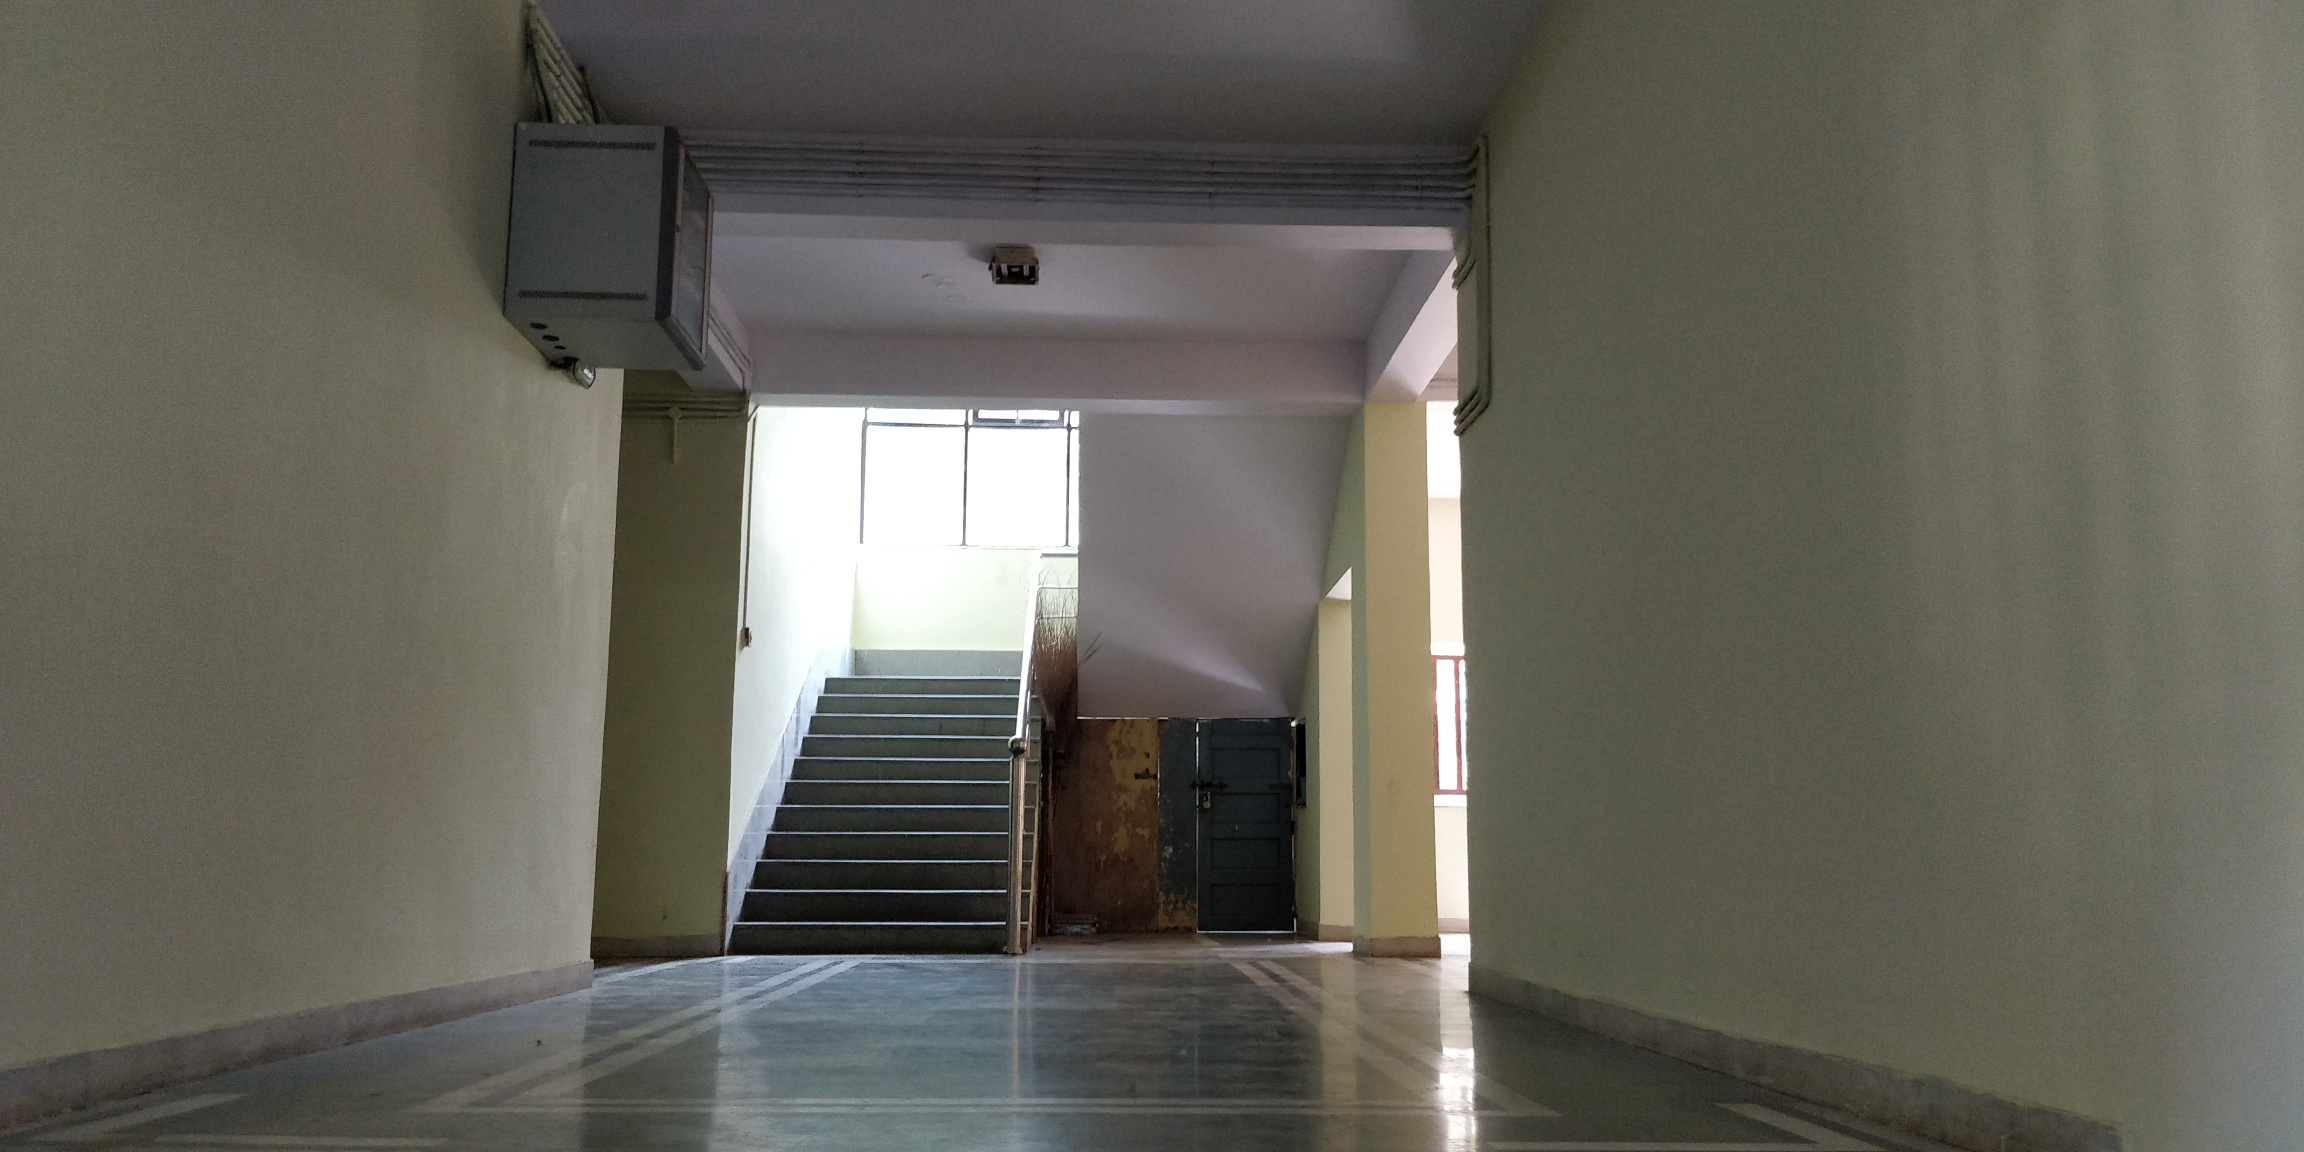stairs_up: (738, 667, 1033, 952)
